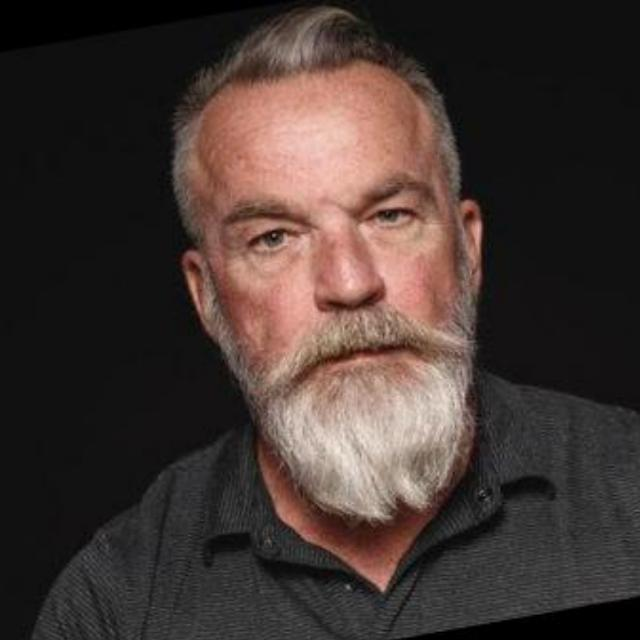Natural: (145, 102, 556, 495)
